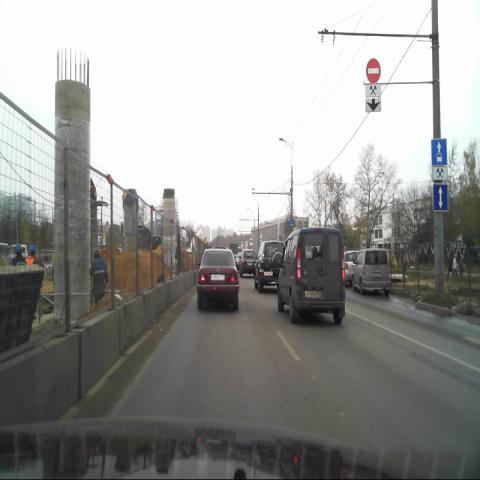3_1: (366, 58, 380, 84)
5_14: (431, 138, 447, 167)
5_8: (433, 183, 447, 210)
